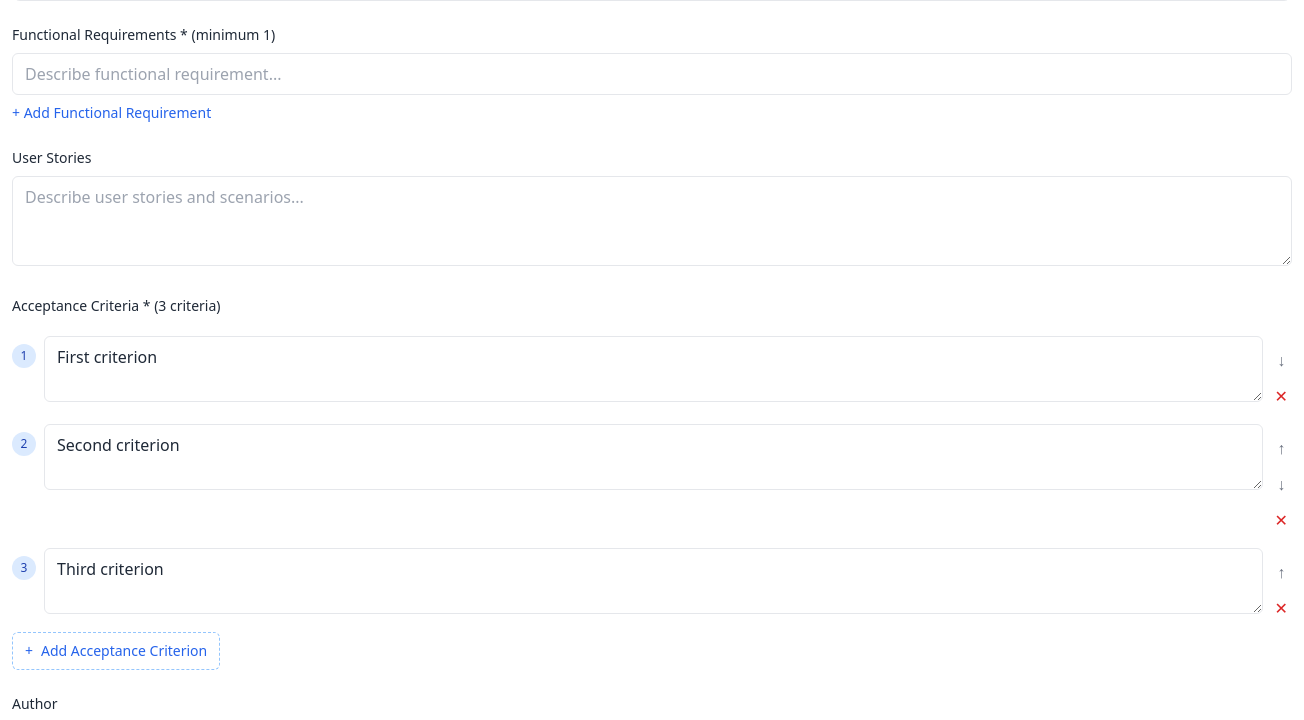
Test: RequirementForm - Acceptance Criteria Management › Reordering Criteria › should move criterion down with down arrow button
(page scrolled)
// Move first criterion down
Step 1. Click the 1st button titled "Move down" → [1281, 360], box x1=1271 y1=344 x2=1292 y2=376
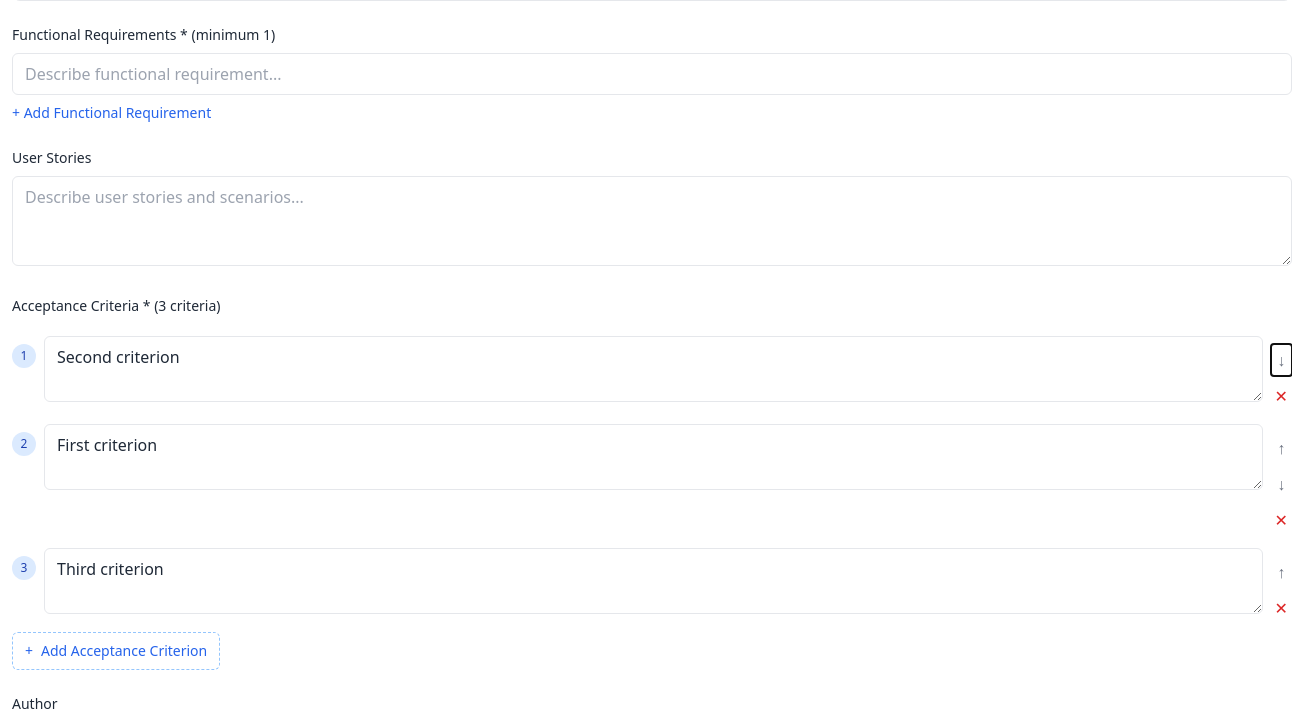
Expected: the 3rd text box with placeholder "Given [context], when [action], then [outcome]..." holds "Third criterion", x1=44 y1=548 x2=1263 y2=614
Expected: the 1st text box with placeholder "Given [context], when [action], then [outcome]..." holds "Second criterion", x1=44 y1=336 x2=1263 y2=402
Expected: the 2nd text box with placeholder "Given [context], when [action], then [outcome]..." holds "First criterion", x1=44 y1=424 x2=1263 y2=490
